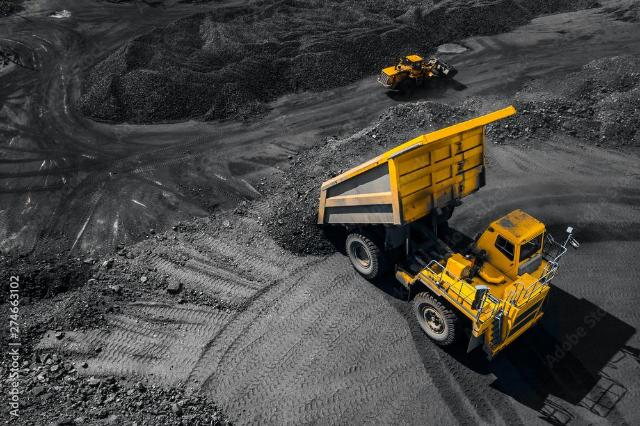truck: (303, 103, 556, 348)
